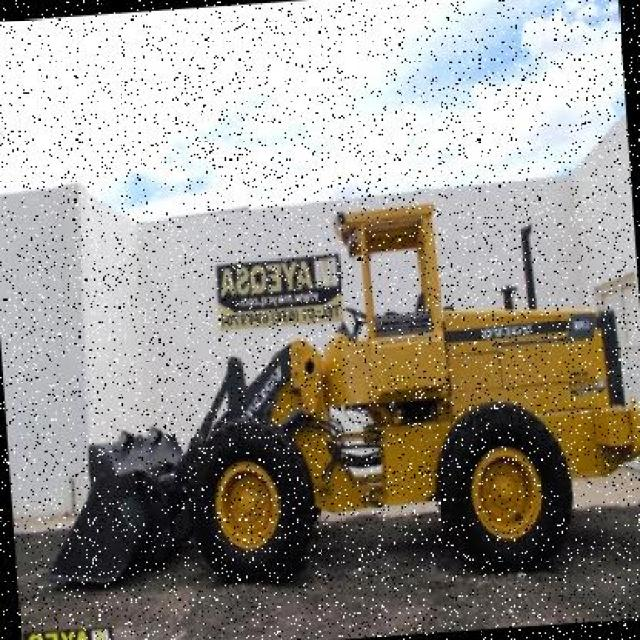buldozerpayloadergrader: (12, 160, 640, 605)
